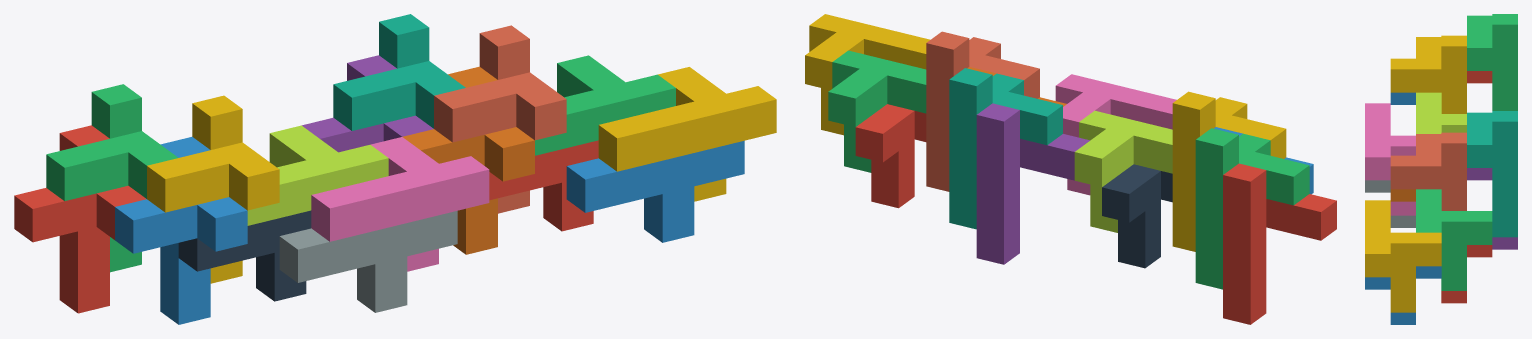
File: tiling.obj
The picture shows the model from 3 angles, left to right: view 1: azimuth 30°, elevation 25°; view 2: azimuth 150°, elevation 25°; view 3: azimuth 270°, elevation 25°; orthographic projection. The views are drawn at different scales.
Parts seen in each view (by area): view 1: copy_2_domain_4, copy_2_domain_8, copy_1_domain_4, copy_1_domain_8, copy_1_domain_2, copy_1_domain_1, copy_2_domain_2, copy_2_domain_6, copy_1_domain_3, copy_1_domain_7, copy_2_domain_3, copy_2_domain_7 (+4 smaller); view 2: copy_1_domain_1, copy_1_domain_5, copy_1_domain_3, copy_1_domain_7, copy_1_domain_4, copy_1_domain_8, copy_2_domain_7, copy_2_domain_3, copy_2_domain_8, copy_2_domain_5, copy_2_domain_1, copy_2_domain_4; view 3: copy_2_domain_8, copy_1_domain_7, copy_1_domain_4, copy_1_domain_8, copy_2_domain_7, copy_1_domain_3, copy_2_domain_4, copy_2_domain_3, copy_2_domain_6, copy_1_domain_5, copy_2_domain_2, copy_2_domain_5 (+3 smaller).
Boxes of the visible parts, x1=… form: copy_2_domain_4: x1=311, y1=137, x2=489, y2=271; copy_2_domain_8: x1=598, y1=67, x2=776, y2=201; copy_1_domain_4: x1=147, y1=95, x2=279, y2=283; copy_1_domain_8: x1=434, y1=25, x2=566, y2=213; copy_1_domain_2: x1=115, y1=137, x2=247, y2=324; copy_1_domain_1: x1=14, y1=125, x2=146, y2=313; copy_2_domain_2: x1=279, y1=210, x2=457, y2=312; copy_2_domain_6: x1=566, y1=140, x2=744, y2=242; copy_1_domain_3: x1=46, y1=84, x2=178, y2=272; copy_1_domain_7: x1=333, y1=14, x2=465, y2=130; copy_2_domain_3: x1=247, y1=125, x2=388, y2=225; copy_2_domain_7: x1=535, y1=55, x2=675, y2=155; copy_1_domain_1: x1=1223, y1=163, x2=1336, y2=324; copy_1_domain_5: x1=976, y1=103, x2=1089, y2=264; copy_1_domain_3: x1=1195, y1=128, x2=1309, y2=289; copy_1_domain_7: x1=949, y1=68, x2=1062, y2=229; copy_1_domain_4: x1=1172, y1=91, x2=1286, y2=251; copy_1_domain_8: x1=926, y1=31, x2=1039, y2=191; copy_2_domain_7: x1=828, y1=50, x2=926, y2=172; copy_2_domain_3: x1=1074, y1=110, x2=1172, y2=232; copy_2_domain_8: x1=805, y1=14, x2=930, y2=135; copy_2_domain_5: x1=855, y1=104, x2=926, y2=208; copy_2_domain_1: x1=1102, y1=164, x2=1172, y2=268; copy_2_domain_4: x1=1055, y1=74, x2=1176, y2=195; copy_2_domain_8: x1=1365, y1=200, x2=1441, y2=312; copy_1_domain_7: x1=1467, y1=111, x2=1517, y2=237; copy_1_domain_4: x1=1390, y1=35, x2=1466, y2=113; copy_1_domain_8: x1=1390, y1=132, x2=1466, y2=210; copy_2_domain_7: x1=1416, y1=189, x2=1492, y2=290; copy_1_domain_3: x1=1467, y1=14, x2=1517, y2=110; copy_2_domain_4: x1=1365, y1=103, x2=1415, y2=215; copy_2_domain_3: x1=1416, y1=92, x2=1466, y2=133; copy_2_domain_6: x1=1365, y1=266, x2=1441, y2=324; copy_1_domain_5: x1=1467, y1=168, x2=1517, y2=249; copy_2_domain_2: x1=1365, y1=180, x2=1415, y2=227; copy_2_domain_5: x1=1441, y1=245, x2=1492, y2=303.
Size of the model in its own units: 21 by 6 by 6.
